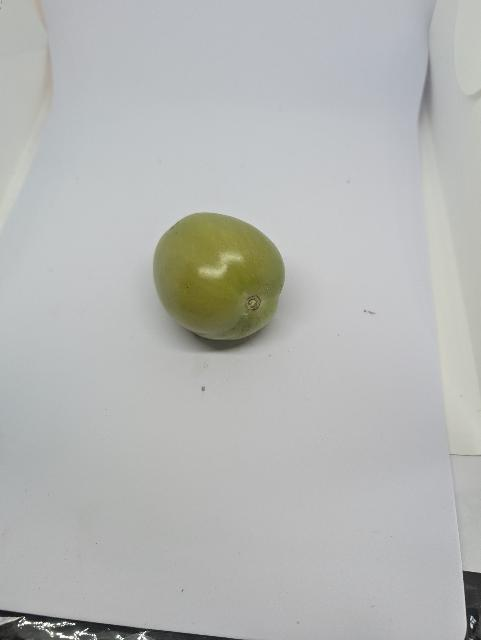green: (134, 199, 302, 355)
